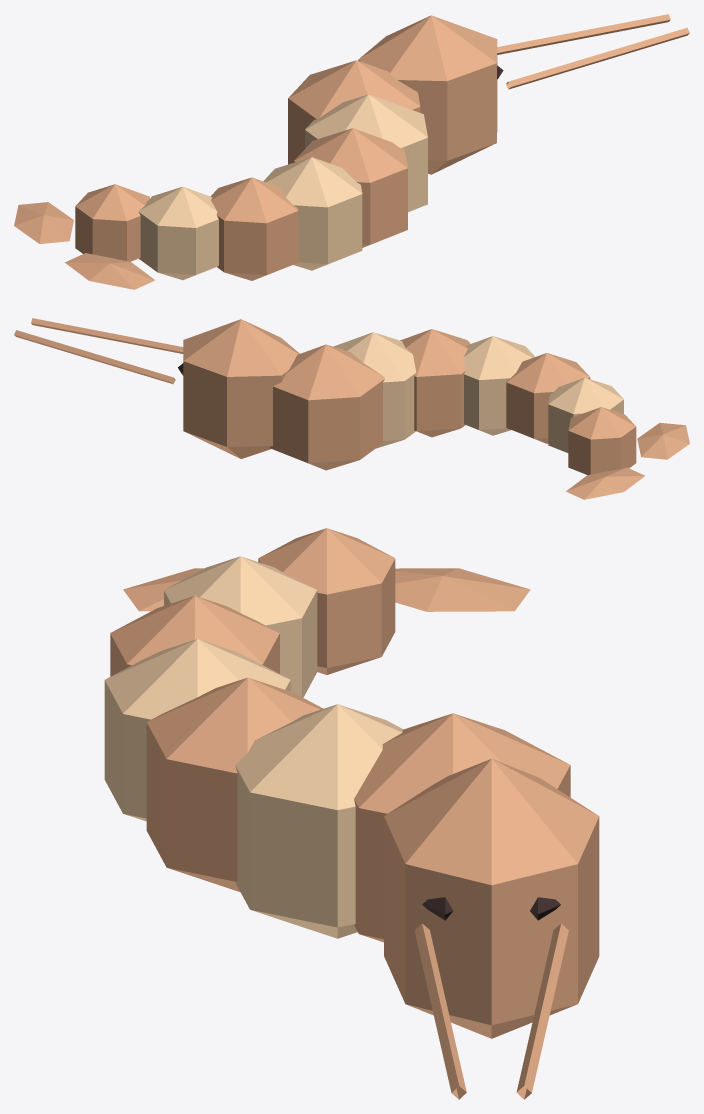
Rendered from prawn-raw.glb.
3 views of the same model, one above another, from view 1: azimuth 30°, elevation 25°; view 2: azimuth 150°, elevation 25°; view 3: azimuth 270°, elevation 25° (orthographic). The views are drawn at different scales.
Visible parts, largest first — view 1: prawn-raw; view 2: prawn-raw; view 3: prawn-raw.
Part boxes in pixels (left/top/right/bottom): prawn-raw: left=14, top=14, right=689, bottom=289; prawn-raw: left=14, top=318, right=689, bottom=499; prawn-raw: left=104, top=528, right=599, bottom=1099.
Bounding box in the file's own units: 0.3536 × 0.08 × 0.128.
1 material, 1 textured.
